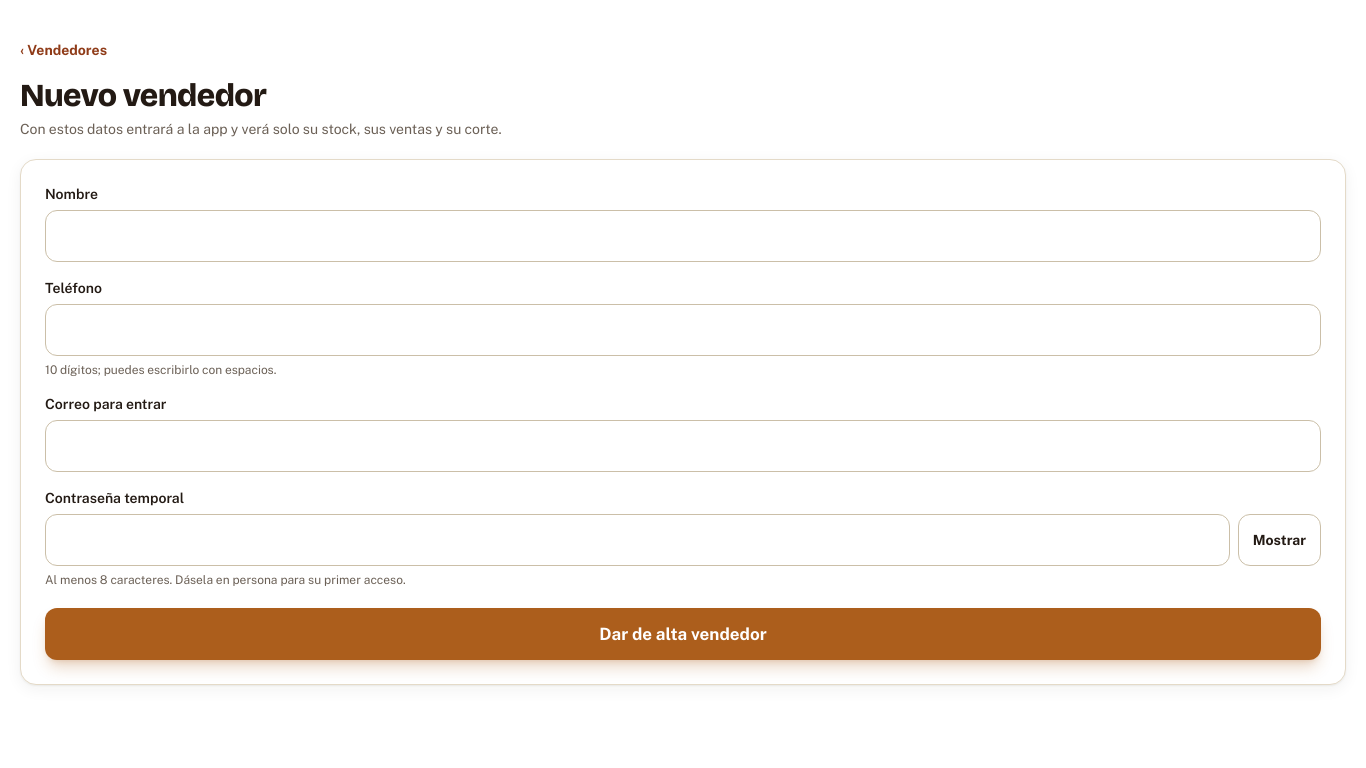
Scenario: CreateSellerPageComponent › manda nombre y correo sin espacios y el teléfono solo con dígitos; mientras guarda se deshabilita
Type "  Luis Vendedor " into the field with id "full-name" at {"x": 683, "y": 236}, box [45, 210, 1321, 262]
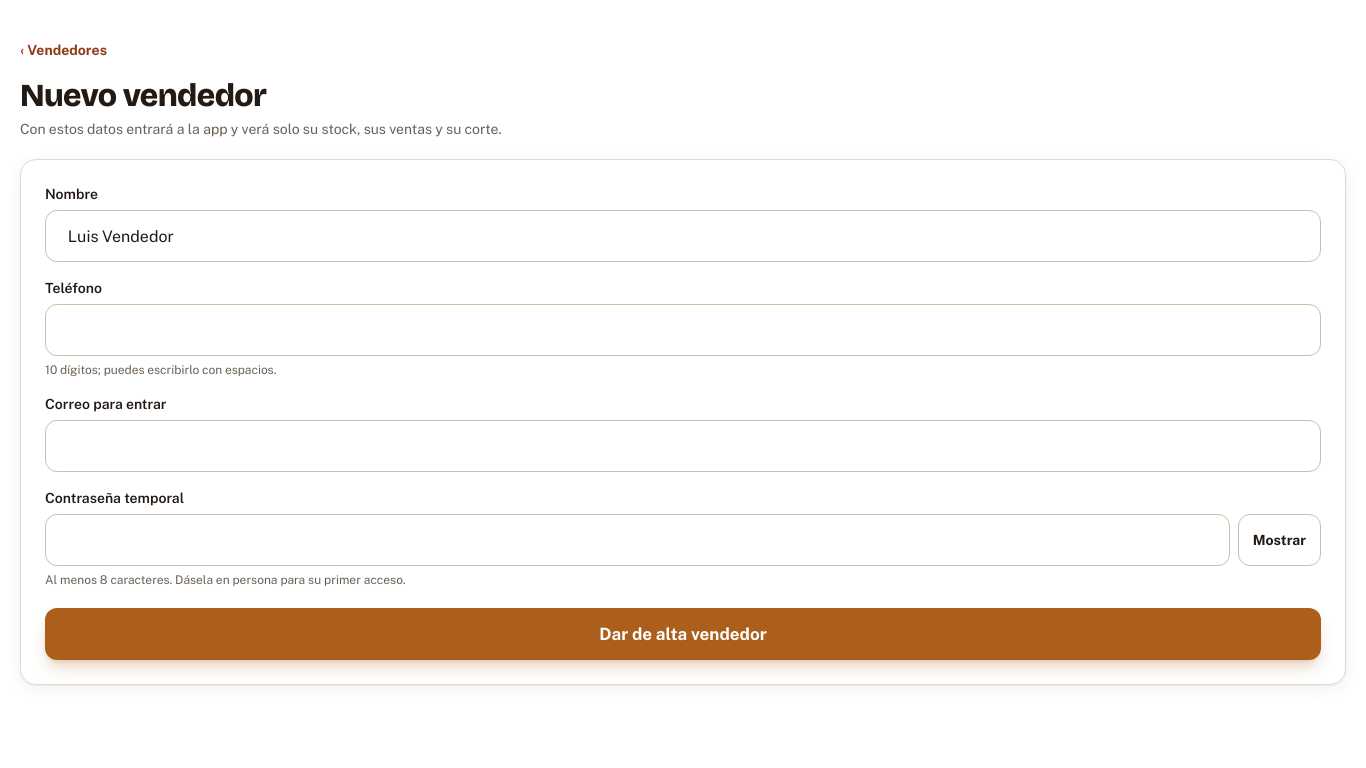
Type "55 2468 1357" into the field labelled "Teléfono" at {"x": 683, "y": 330}, box [45, 304, 1321, 356]
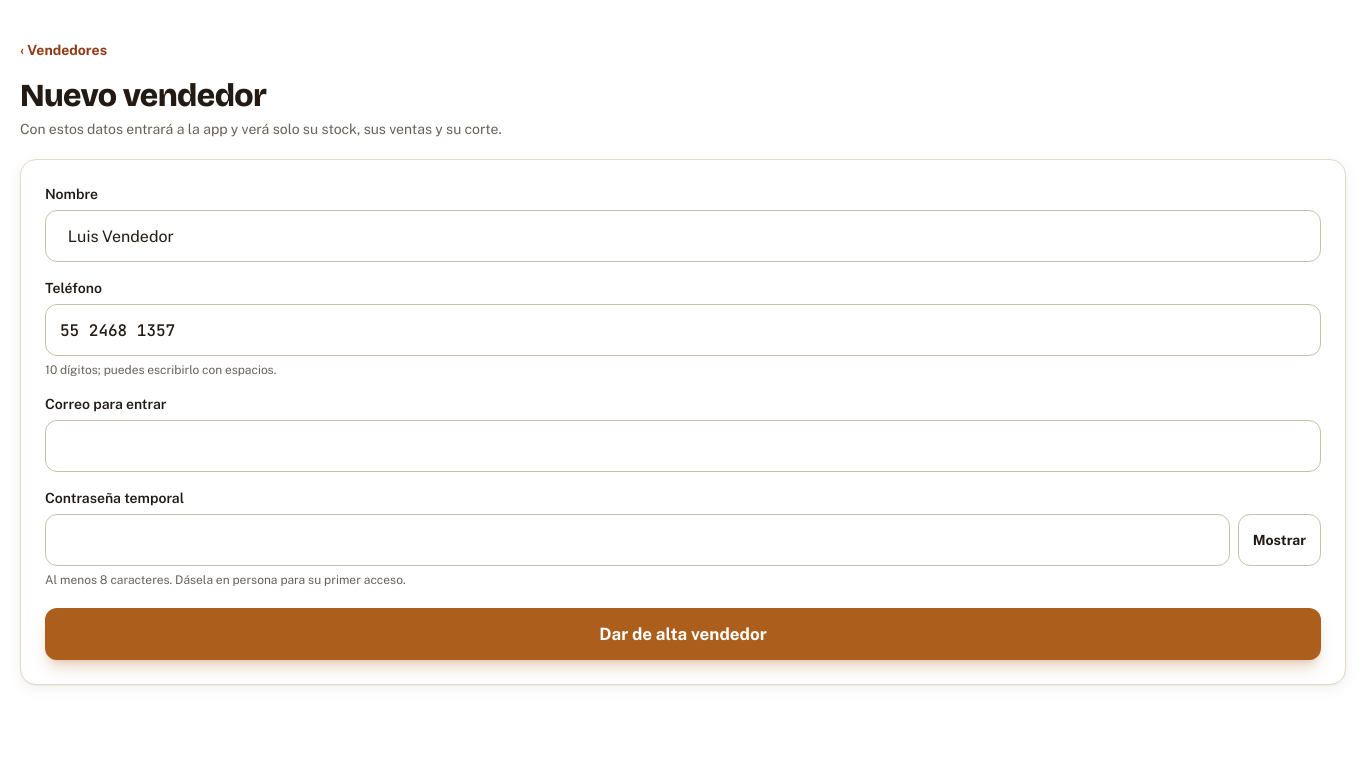
Type " luis@mammut.mx " into the field with id "email" at {"x": 683, "y": 446}, box [45, 420, 1321, 472]
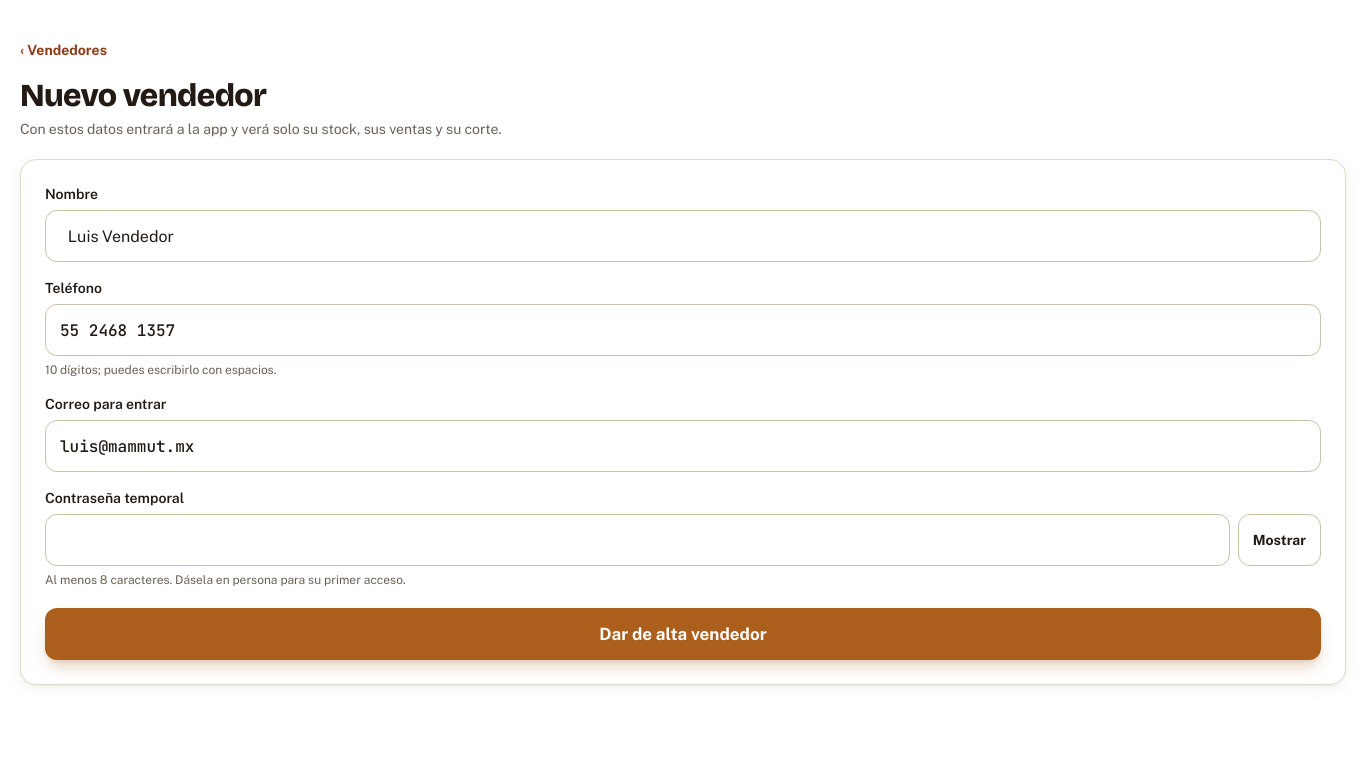
Type "temporal123" into the password field labelled "Contraseña temporal" at {"x": 637, "y": 540}, box [45, 514, 1230, 566]
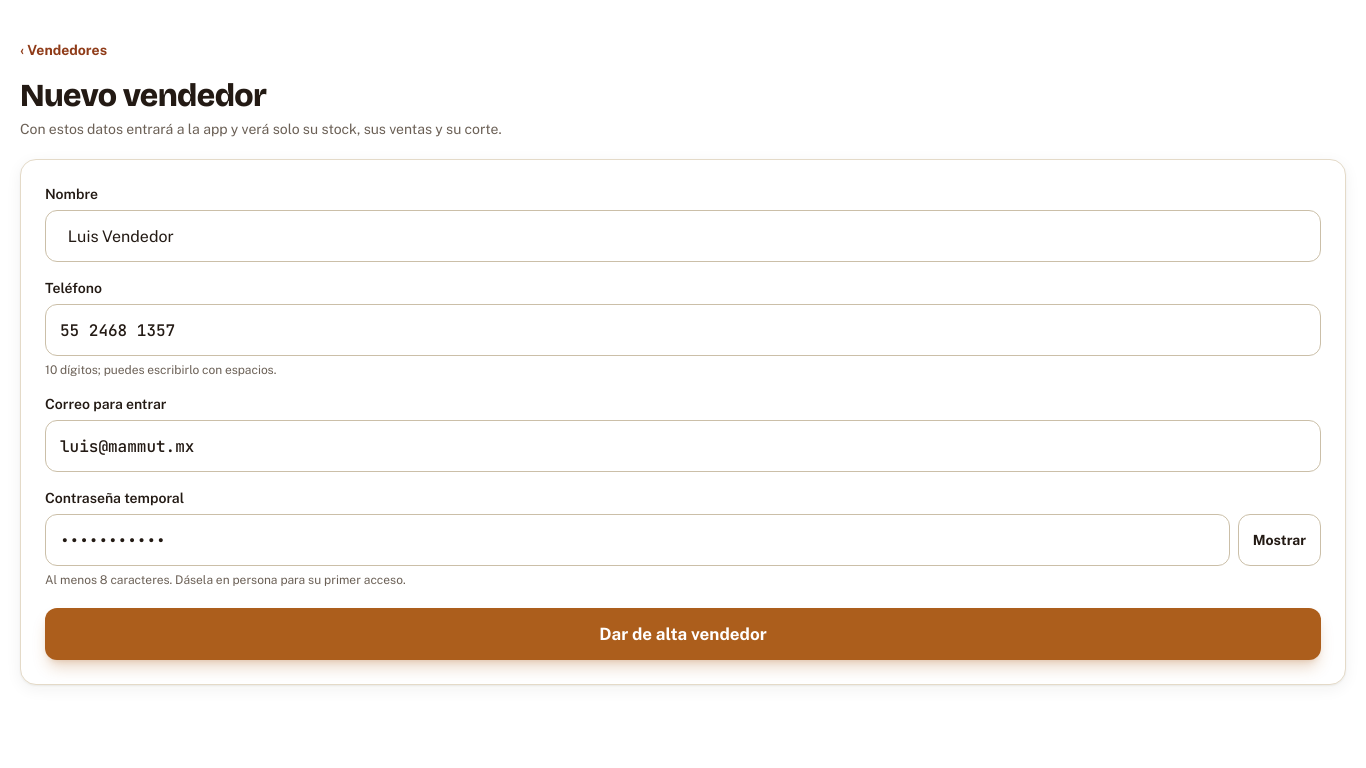
Submit the form
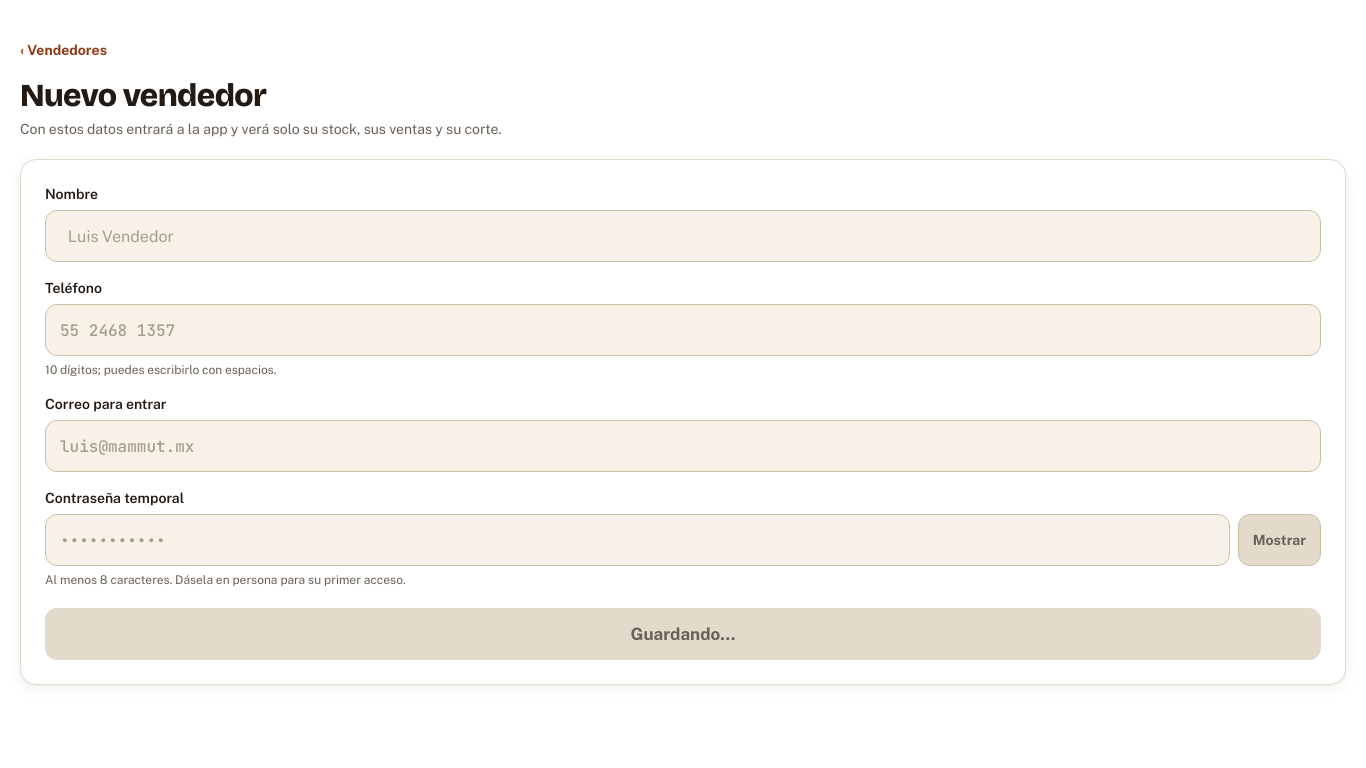
Result: the text "Guardando…" is shown at [45, 608, 1321, 660]
Result: the field with id "full-name" is disabled at [45, 210, 1321, 262]
